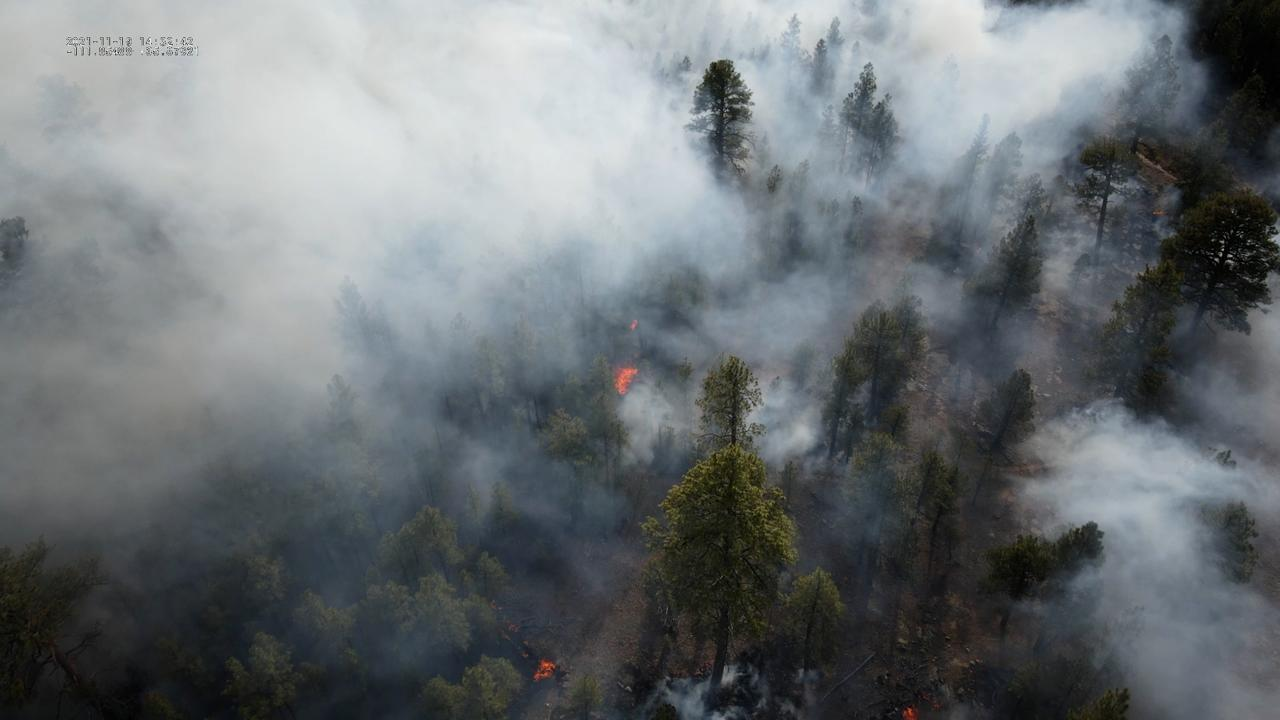fire: (611, 365, 640, 396), (530, 658, 557, 683), (899, 704, 920, 720), (628, 318, 639, 332)
smoke: (0, 0, 1280, 720)
